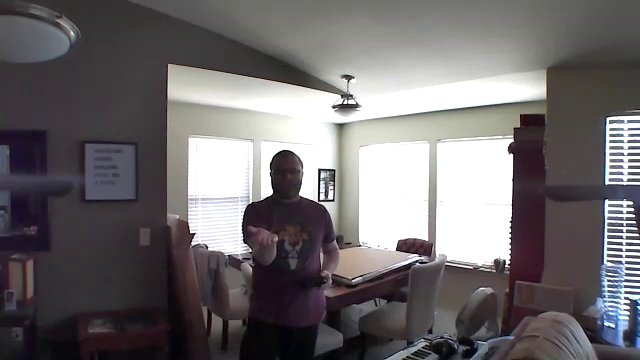land: (244, 222, 281, 249)
